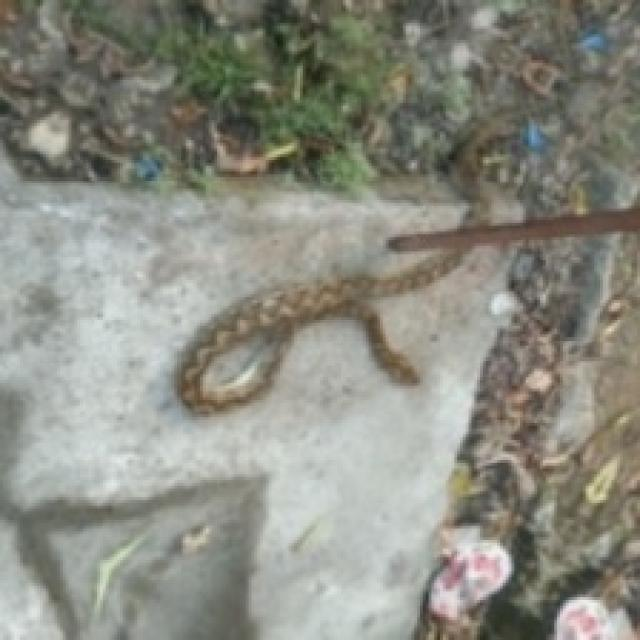reticulated python: (177, 251, 460, 411)
